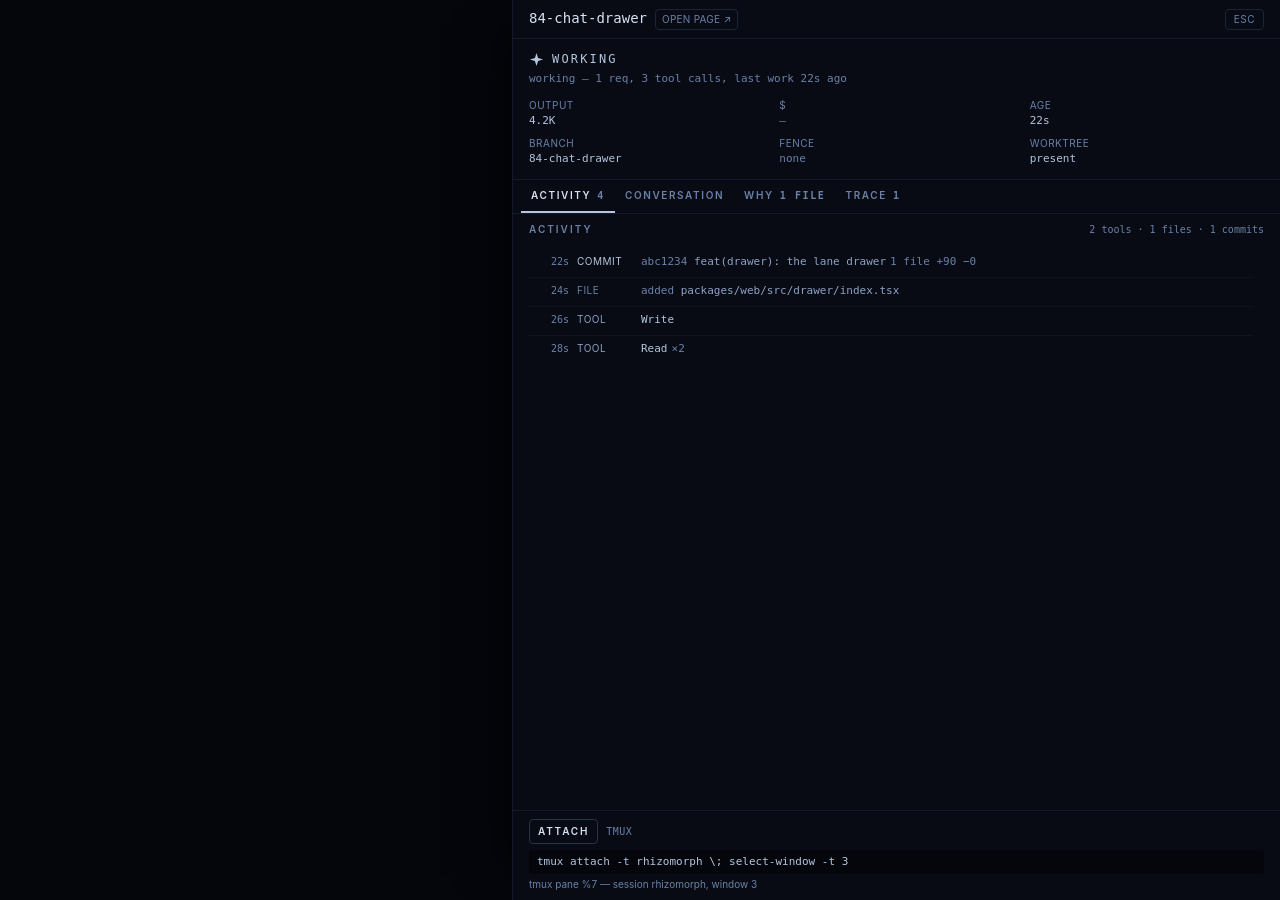
Test case: LaneDrawer — the trace section (prd9 B1a) › renders the lane's span tree in its own tab
This screenshot has width=1280, height=900.
Step 1. Click the tab with test id "drawer-tab-trace" → (873, 197), box [835,180,910,213]
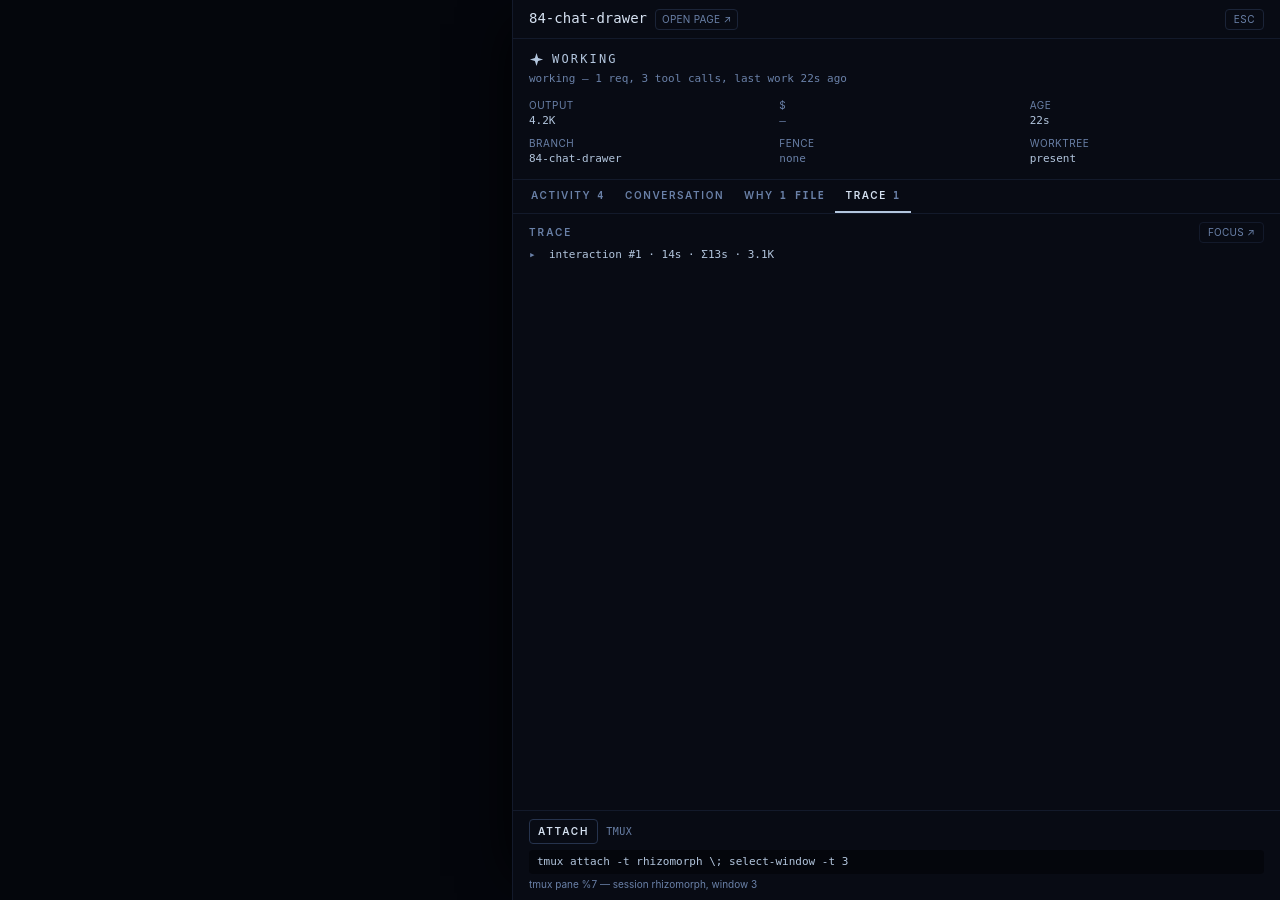
Now the list with test id "trace-tree" is shown
Step 2. Click the button with test id "trace-interaction-toggle" → (592, 255), box [529,247,1254,264]
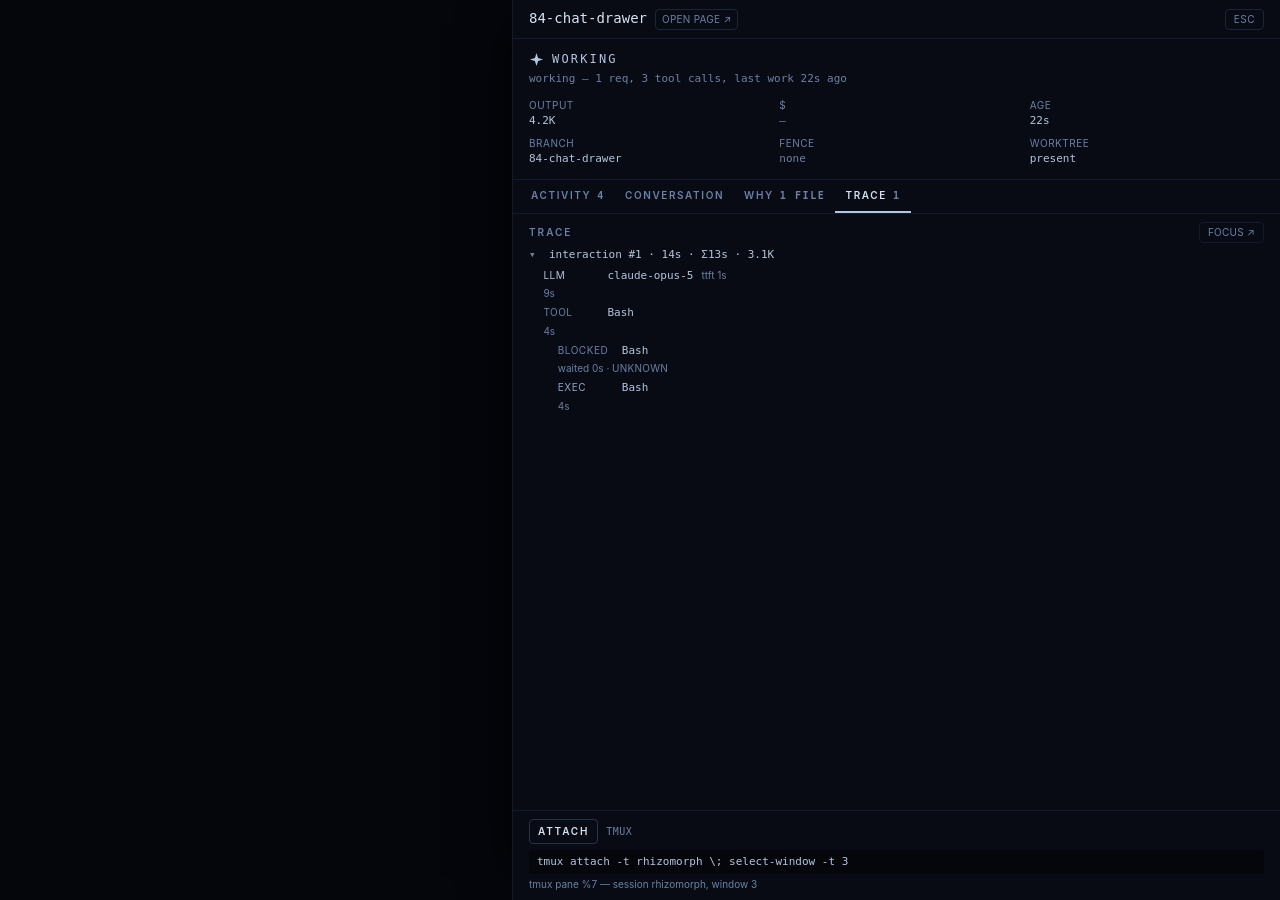
Now the list item with test id "trace-row" showing "llm claude-opus-5 ttft 1s 9s" is shown, box [543,269,727,299]
